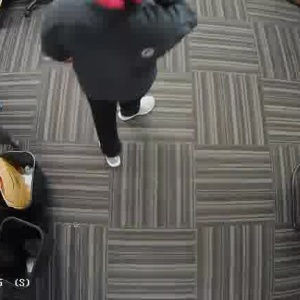person: (72, 0, 180, 158)
